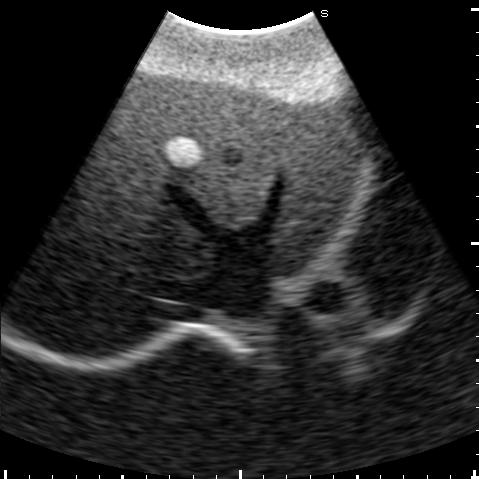S2: (267, 113, 363, 279)
S4: (126, 78, 284, 229)
S7: (26, 213, 173, 354)
S8: (79, 103, 212, 278)
Tumor: (165, 135, 202, 168)
